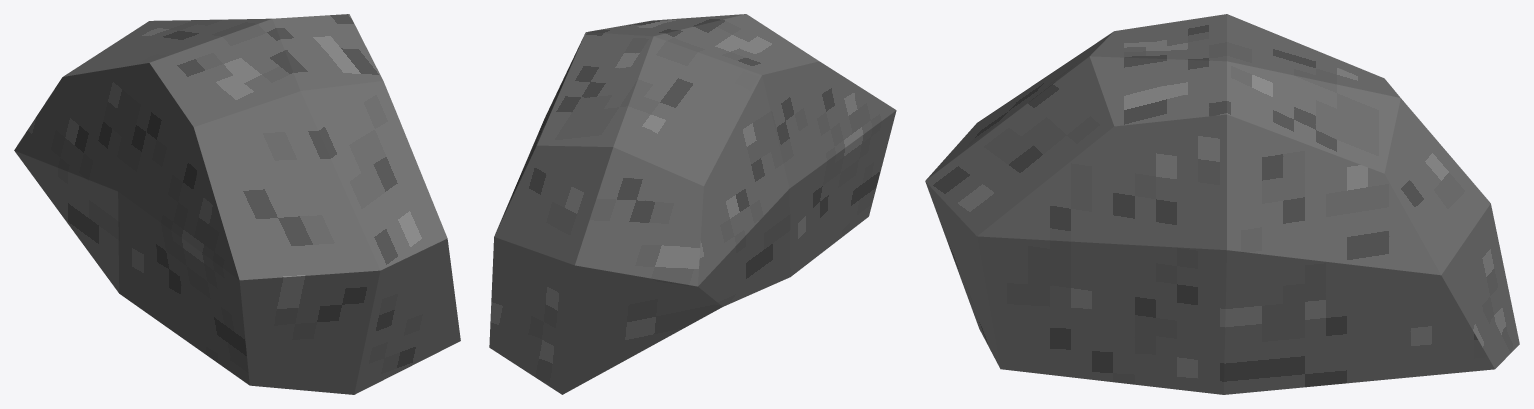
File: PixelRock1.glb
3 renders of one model, left to right at view 1: azimuth 30°, elevation 25°; view 2: azimuth 150°, elevation 25°; view 3: azimuth 270°, elevation 25°, orthographic. The views are drawn at different scales.
Visible parts, largest first — view 1: Cube; view 2: Cube; view 3: Cube.
Part boxes in pixels (x1,y1,x2,y2): Cube: (14,14,460,394); Cube: (489,14,896,394); Cube: (925,14,1519,394).
Bounding box in the file's own units: 1.47 × 1.48 × 2.64.
Materials: 1 (1 with a texture image).
